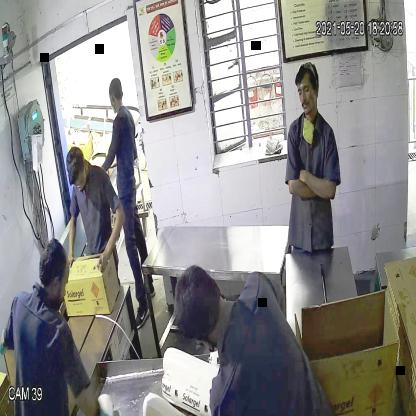no_goggles: (294, 82, 318, 100)
